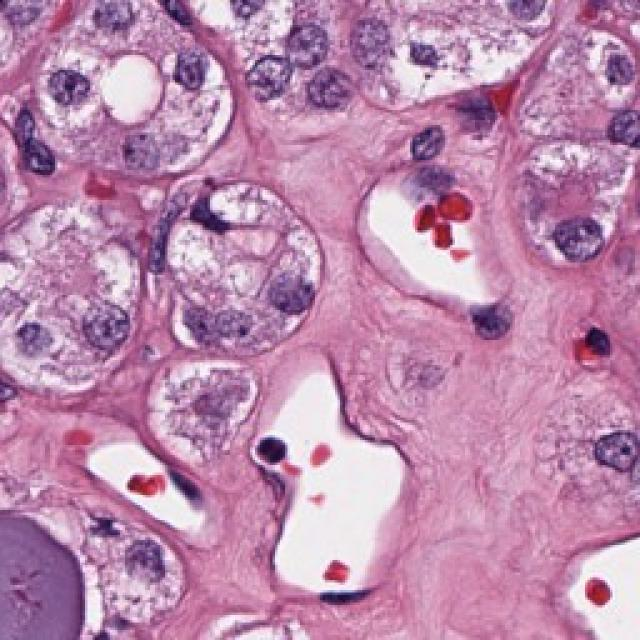abnormal: (534, 191, 618, 284), (251, 253, 337, 339), (29, 43, 103, 135), (60, 285, 144, 364), (232, 23, 297, 117), (395, 101, 464, 179), (118, 116, 177, 198), (268, 0, 337, 68), (585, 90, 640, 175), (304, 55, 366, 124)
